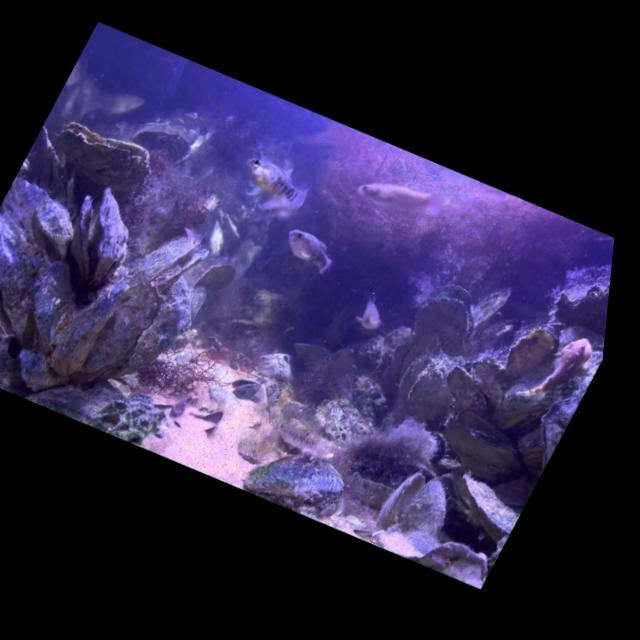Oyster-Closed: (485, 317, 607, 455), (43, 265, 133, 380), (45, 112, 163, 195), (424, 413, 536, 499), (85, 274, 171, 378), (435, 468, 532, 550), (10, 123, 98, 208), (494, 317, 568, 394)
Oyster-Indeterminate: (0, 208, 86, 352), (120, 270, 212, 386), (4, 254, 96, 360), (14, 193, 90, 266), (431, 360, 505, 422), (465, 278, 517, 338), (0, 276, 5, 364)
Oyster-Open: (42, 178, 155, 299), (365, 462, 465, 560), (125, 218, 217, 306), (400, 271, 482, 358), (124, 108, 202, 170), (225, 372, 268, 409)
